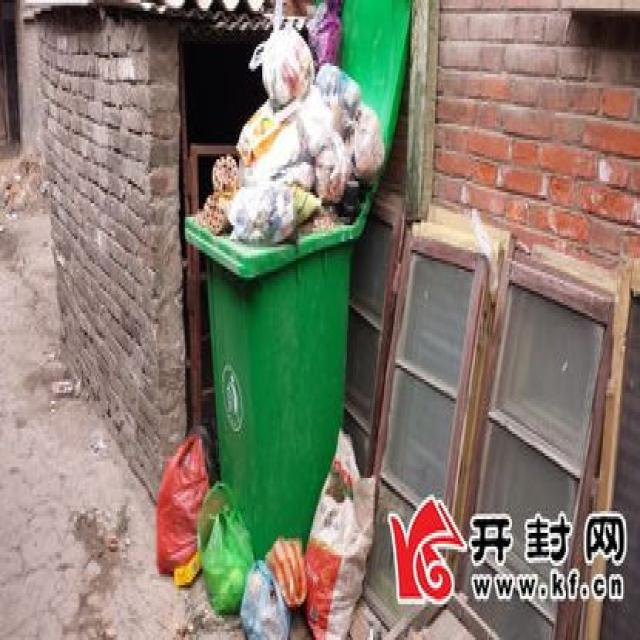garbage: (154, 423, 375, 637)
overflow: (184, 0, 370, 555)
